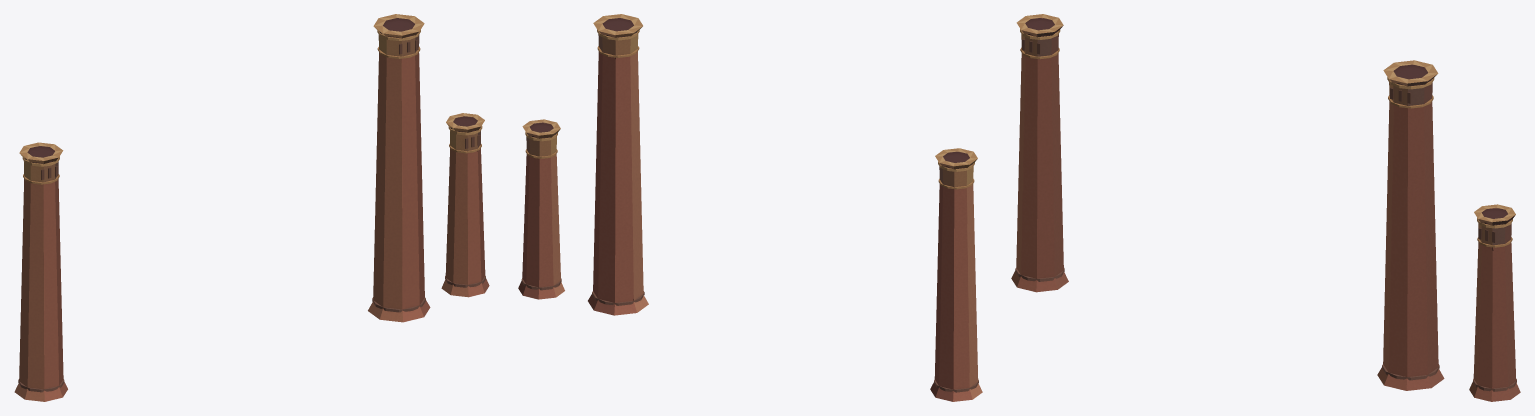
Rendered from Cinder_Kiln_Flues.glb.
3 renders of one model, left to right at view 1: azimuth 30°, elevation 25°; view 2: azimuth 150°, elevation 25°; view 3: azimuth 330°, elevation 25°, orthographic. The views are drawn at different scales.
Visible parts, largest first — view 1: Cinder_Kiln_Flues; view 2: Cinder_Kiln_Flues; view 3: Cinder_Kiln_Flues.
Boxes of the visible parts, x1,y1,x2,y2 form: Cinder_Kiln_Flues: [14, 14, 489, 401]; Cinder_Kiln_Flues: [518, 14, 982, 401]; Cinder_Kiln_Flues: [1011, 14, 1520, 401].
Size of the model in its own units: 44.98 by 26.26 by 5.55.
1 material, 1 textured.
